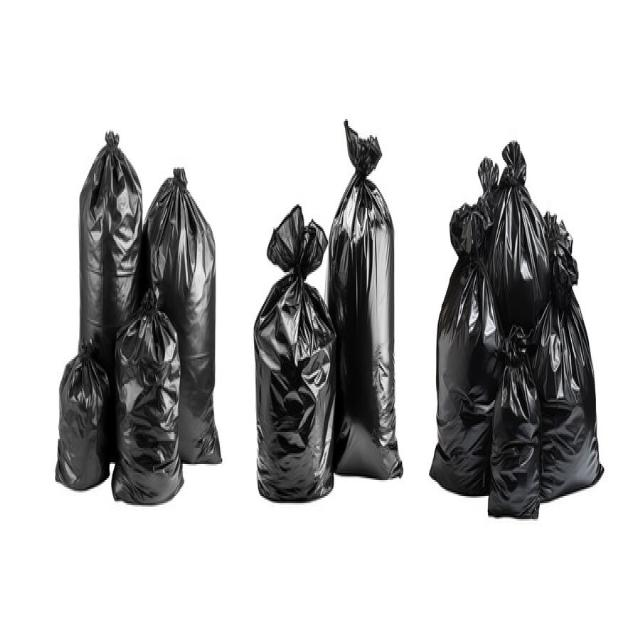trash: (54, 128, 208, 494), (442, 153, 590, 510), (265, 132, 393, 480)
